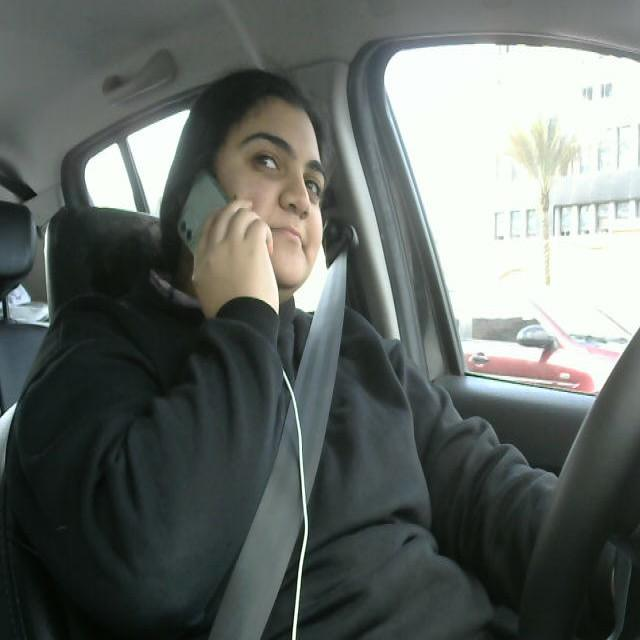mobile use: (170, 170, 266, 284)
